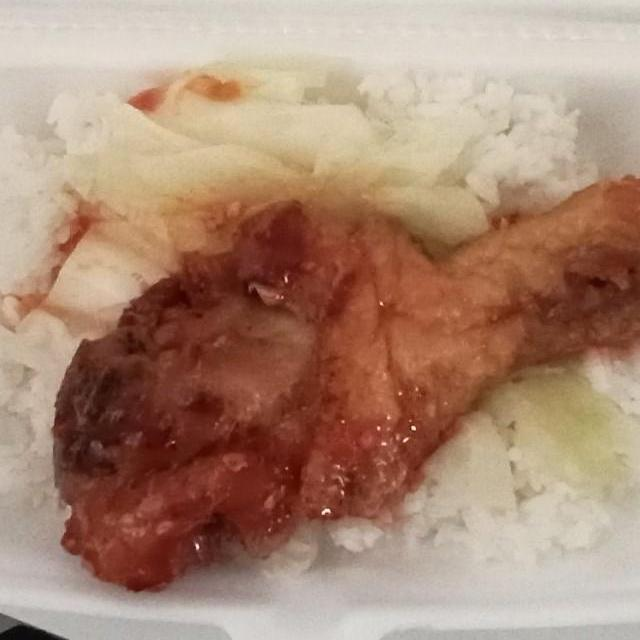com: (394, 313, 640, 575), (348, 60, 604, 222), (0, 293, 86, 514), (0, 121, 92, 311)
thit ga: (46, 167, 640, 599)
